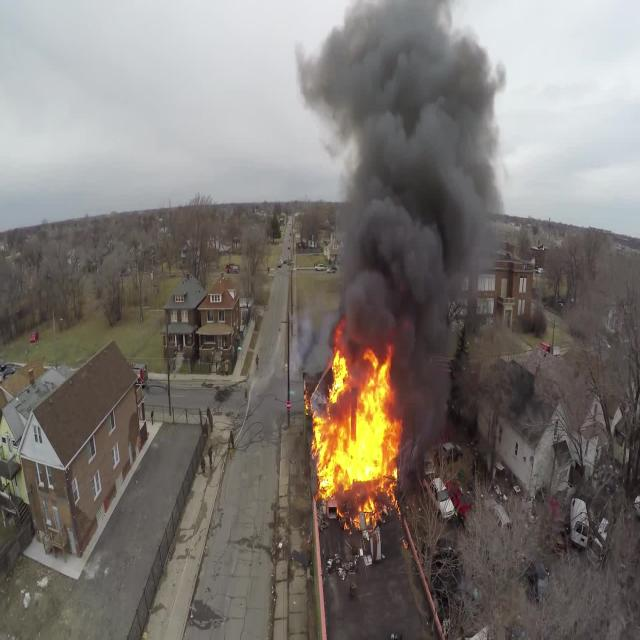fire: (320, 375, 390, 498)
smoke: (336, 8, 466, 359), (402, 368, 436, 448)
